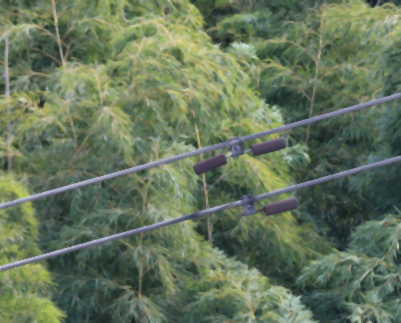damper: (192, 134, 288, 177)
damper_defect: (231, 191, 299, 222)
